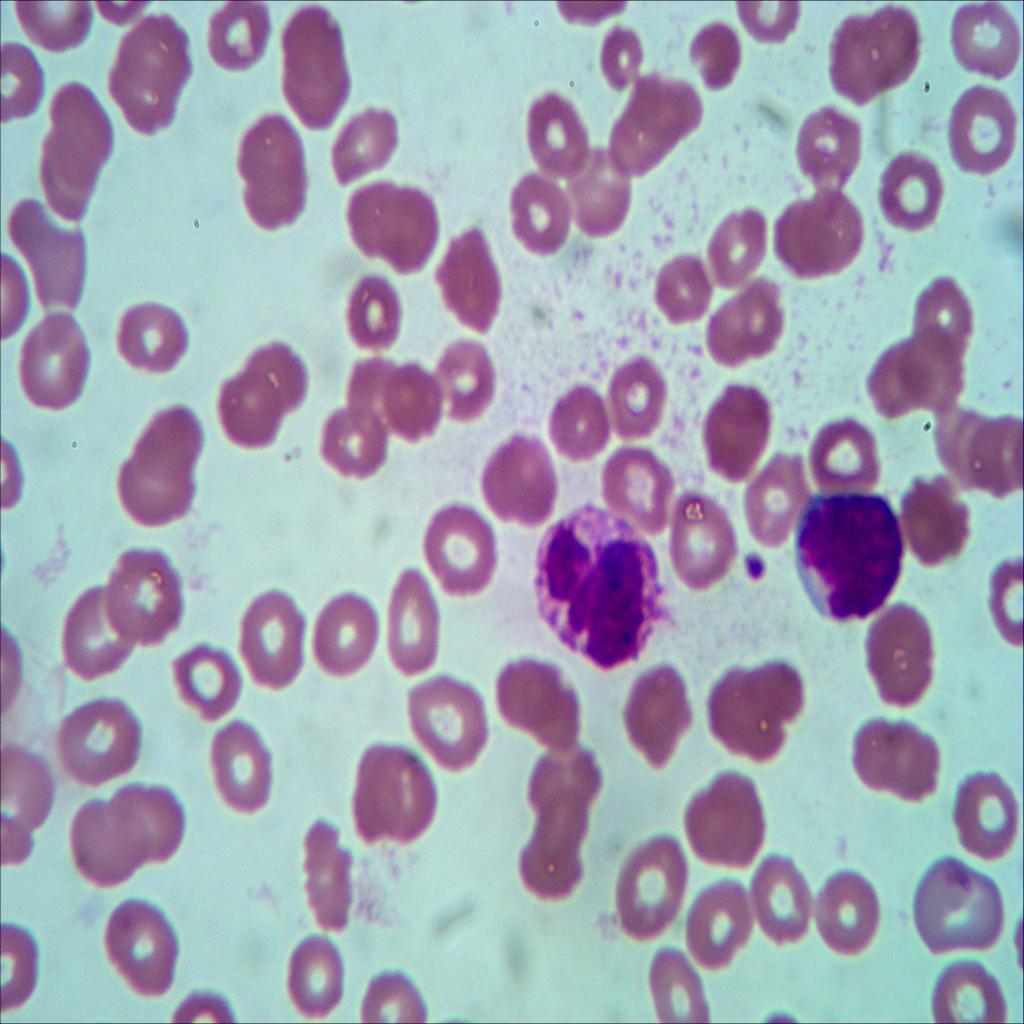Eritrosit: (708, 650, 810, 777), (98, 14, 195, 142), (330, 171, 442, 281), (0, 190, 90, 322), (273, 2, 360, 136), (344, 738, 446, 852), (676, 771, 782, 880), (100, 884, 191, 1008), (916, 848, 1012, 962), (396, 668, 496, 776), (694, 374, 780, 496), (3, 306, 91, 425), (857, 704, 945, 820), (934, 83, 1024, 195), (293, 806, 366, 940), (494, 638, 579, 752), (824, 0, 919, 97), (592, 440, 686, 538), (772, 182, 866, 280), (414, 492, 502, 596), (468, 431, 560, 530), (50, 695, 152, 783), (518, 73, 590, 197), (608, 78, 704, 171), (236, 117, 315, 230), (942, 755, 1021, 866), (859, 598, 943, 701), (868, 322, 964, 412), (102, 771, 190, 869), (432, 225, 514, 330), (514, 804, 596, 907), (737, 439, 815, 547), (804, 400, 884, 501), (620, 833, 687, 953), (660, 486, 738, 588), (516, 739, 608, 824), (875, 150, 952, 250), (106, 544, 182, 645), (383, 569, 454, 677), (104, 295, 189, 385), (208, 722, 281, 826), (779, 97, 858, 193), (550, 138, 631, 231), (311, 576, 380, 683), (675, 885, 765, 967), (69, 803, 148, 896), (324, 90, 406, 179), (318, 397, 394, 493), (28, 121, 98, 225), (58, 590, 135, 683), (894, 477, 980, 560), (815, 866, 882, 972), (285, 918, 353, 1021), (502, 168, 578, 260), (328, 274, 405, 364), (52, 79, 116, 187), (626, 668, 696, 763), (754, 855, 820, 955), (239, 592, 304, 692), (535, 370, 604, 463), (114, 454, 197, 531), (925, 948, 1009, 1024), (642, 943, 720, 1024), (714, 282, 782, 372), (340, 348, 405, 442), (948, 3, 1024, 83), (426, 341, 496, 425), (214, 365, 283, 450), (172, 639, 240, 722), (914, 276, 988, 352), (916, 409, 998, 476), (200, 0, 272, 76), (136, 403, 208, 476), (686, 16, 755, 92), (0, 745, 52, 845), (354, 962, 437, 1024), (610, 346, 668, 431), (648, 243, 714, 317), (382, 363, 440, 441), (966, 418, 1024, 495), (0, 42, 54, 122), (598, 10, 645, 94), (984, 549, 1024, 642), (712, 217, 770, 278), (254, 342, 305, 410)
Limfoblast: (793, 477, 906, 631)
Neutrofil: (530, 494, 669, 684)
Platelet: (736, 547, 770, 582)
